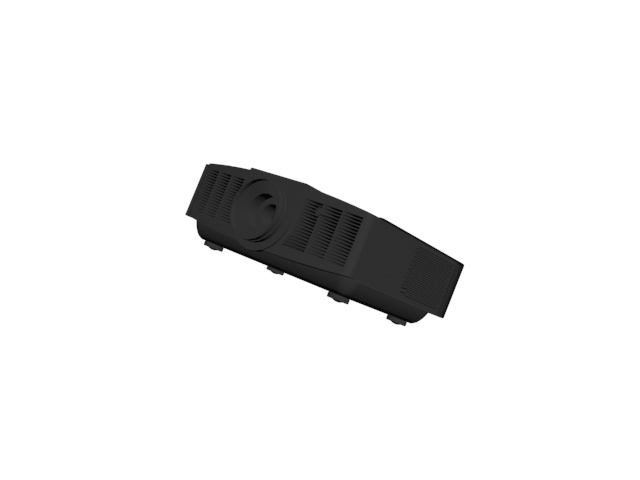projector: (185, 161, 471, 328)
